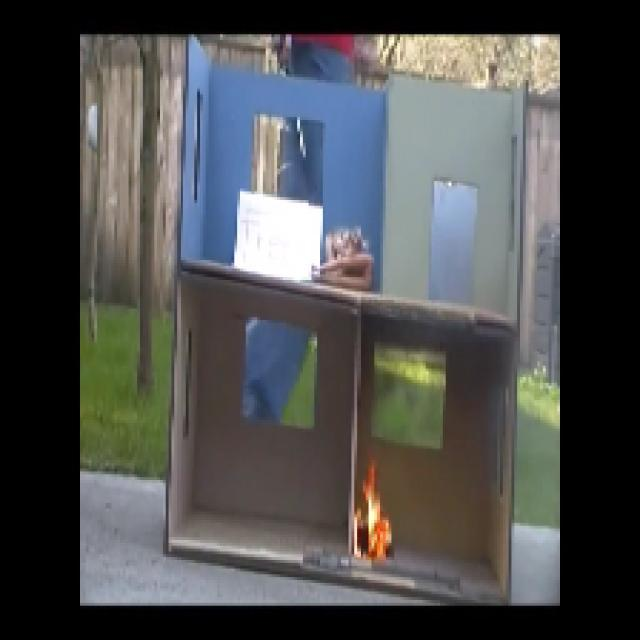Fire: (354, 471, 392, 565)
